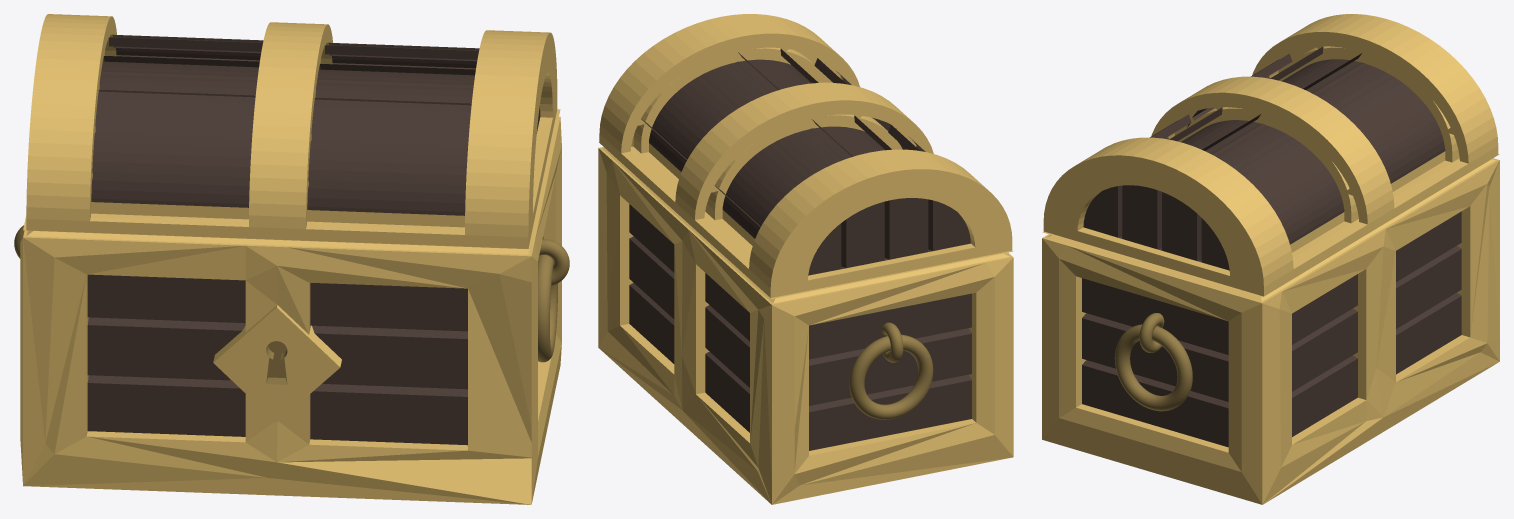
The model's file is chest.glb.
The picture shows the model from 3 angles, left to right: view 1: azimuth 30°, elevation 25°; view 2: azimuth 150°, elevation 25°; view 3: azimuth 270°, elevation 25°; orthographic projection. The views are drawn at different scales.
Parts seen in each view (by area): view 1: Chest, Torus.002, Torus.003; view 2: Chest, Torus.002, Torus.003; view 3: Chest, Torus.002, Torus.003.
Boxes of the visible parts, x1,y1,x2,y2 form: Chest: [20, 14, 561, 504]; Torus.002: [538, 255, 557, 362]; Torus.003: [14, 225, 569, 285]; Chest: [598, 14, 1013, 504]; Torus.002: [849, 334, 933, 419]; Torus.003: [881, 322, 903, 362]; Chest: [1042, 14, 1499, 504]; Torus.002: [1114, 324, 1192, 411]; Torus.003: [1139, 313, 1164, 352].
Bounding box in the file's own units: 2.57 × 1.78 × 2.38.
